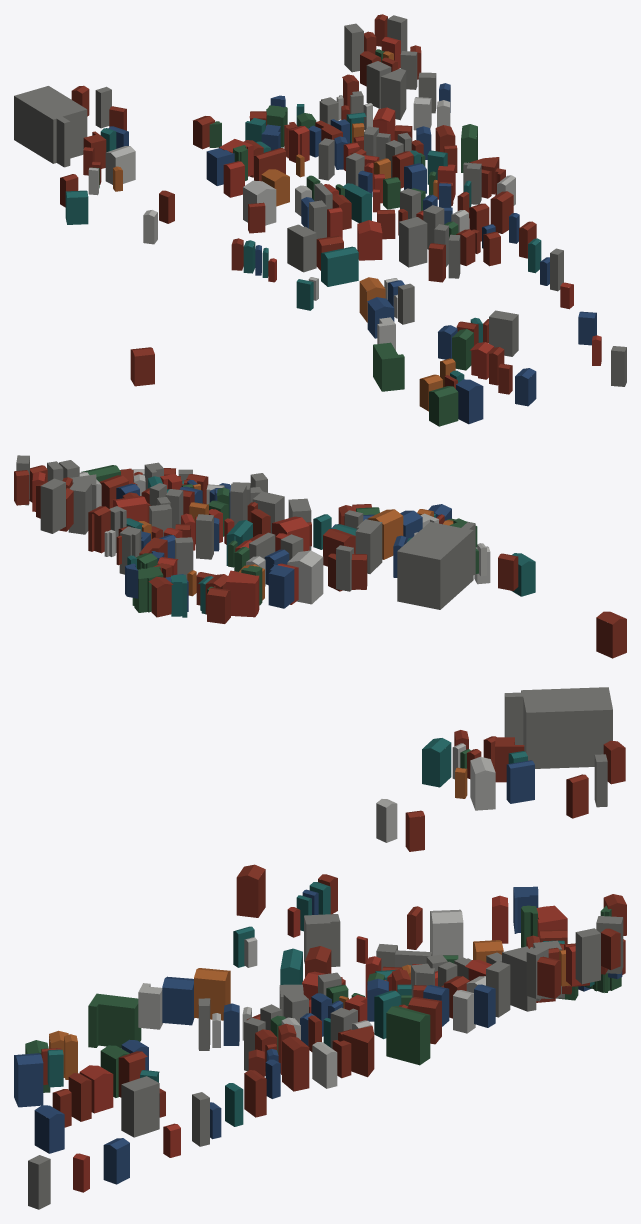
Rendered from near-17-109442-59482.758c2373.glb.
The picture shows the model from 3 angles, top to bottom: view 1: azimuth 30°, elevation 25°; view 2: azimuth 150°, elevation 25°; view 3: azimuth 270°, elevation 25°; orthographic projection. The views are drawn at different scales.
Bounding box in the file's own units: 297 × 150 × 298.
